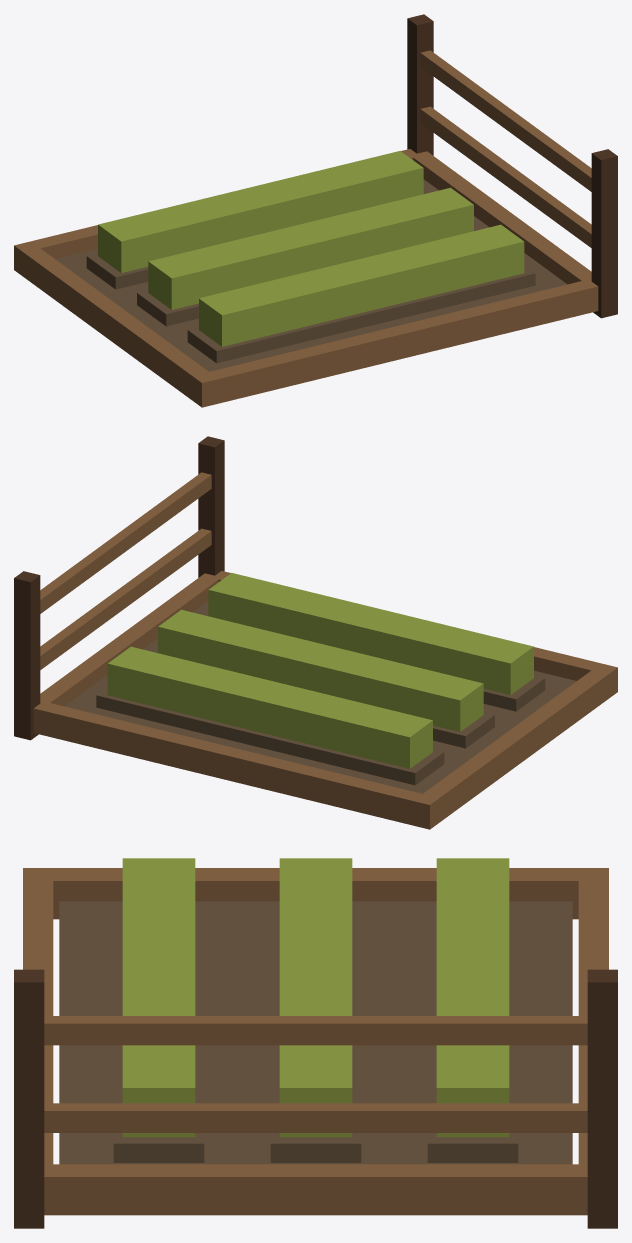
Rendered from prop_veggarden.glb.
3 renders of one model, top to bottom at view 1: azimuth 30°, elevation 25°; view 2: azimuth 150°, elevation 25°; view 3: azimuth 270°, elevation 25°, orthographic. The views are drawn at different scales.
Visible parts, largest first — view 1: prop_veggarden; view 2: prop_veggarden; view 3: prop_veggarden.
Boxes of the visible parts, x1,y1,x2,y2 form: prop_veggarden: (14,14,617,407); prop_veggarden: (14,436,617,829); prop_veggarden: (14,858,617,1228).
Bounding box in the file's own units: 2.46 × 0.9 × 2.
